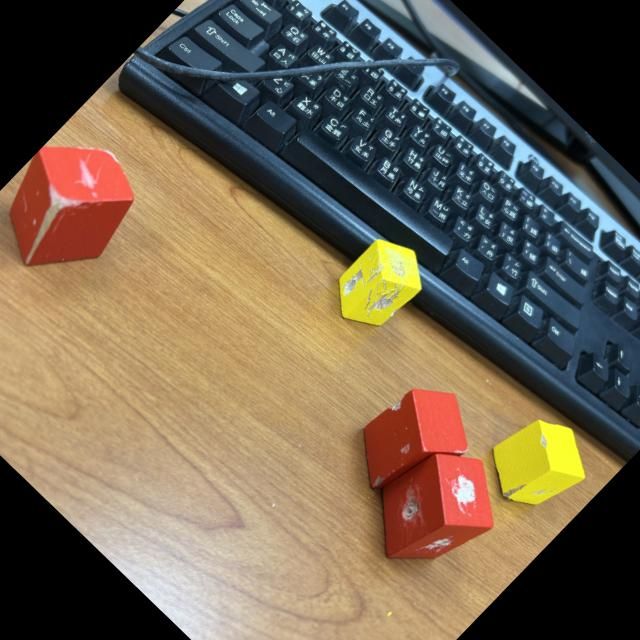broken: (348, 423, 521, 598), (0, 115, 158, 299), (336, 364, 490, 520), (472, 398, 604, 530), (319, 226, 438, 346)
